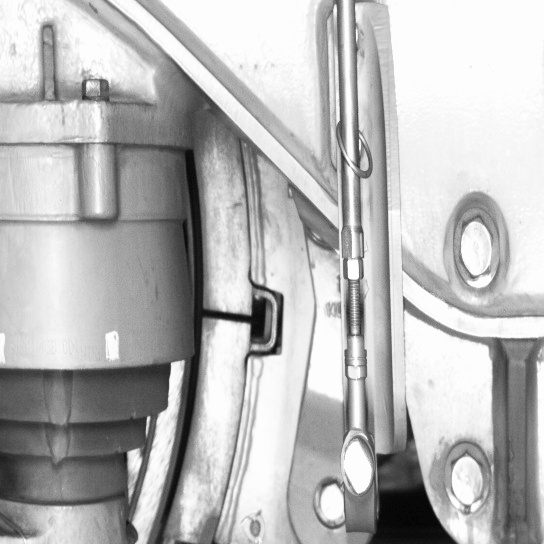KnifeSwitch: (147, 146, 263, 540)
